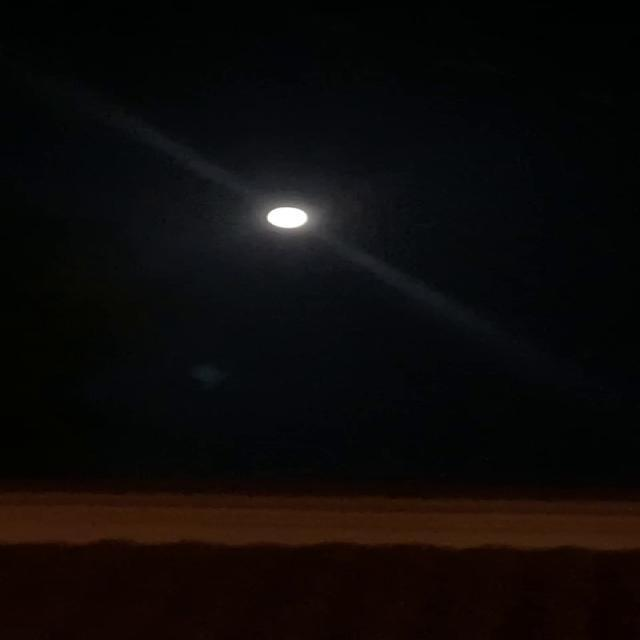moon: (264, 202, 318, 232)
